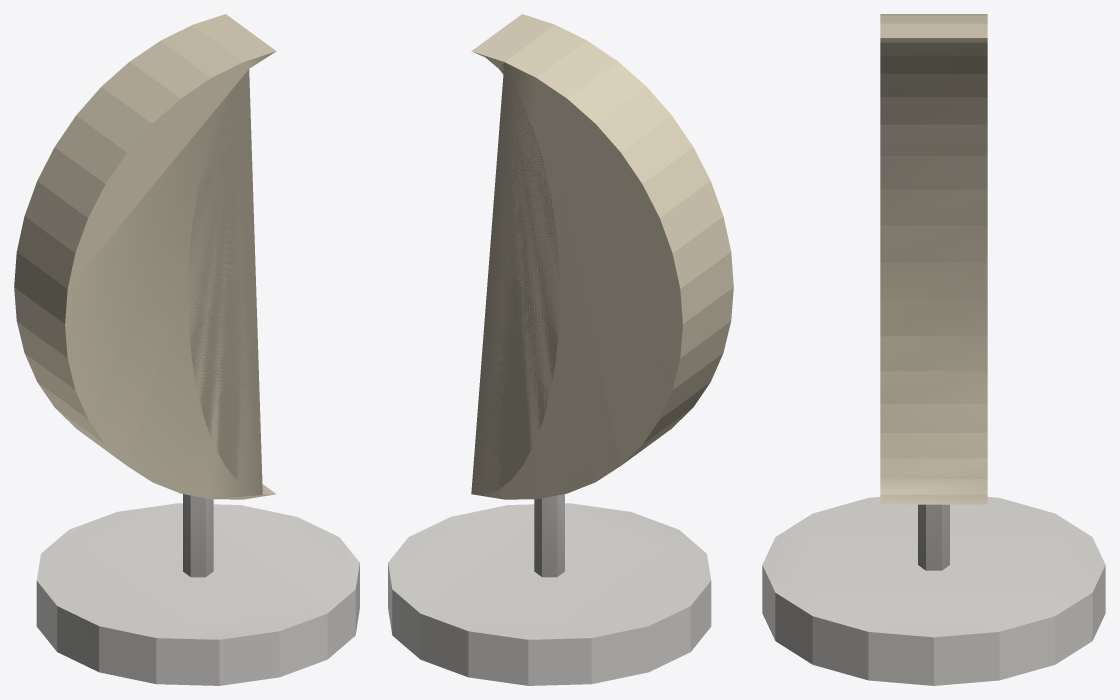
Rendered from furn_moon_lamp__white.glb.
3 renders of one model, left to right at view 1: azimuth 30°, elevation 25°; view 2: azimuth 150°, elevation 25°; view 3: azimuth 270°, elevation 25°, orthographic. The views are drawn at different scales.
Bounding box in the file's own units: 0.34 × 0.62 × 0.32.
